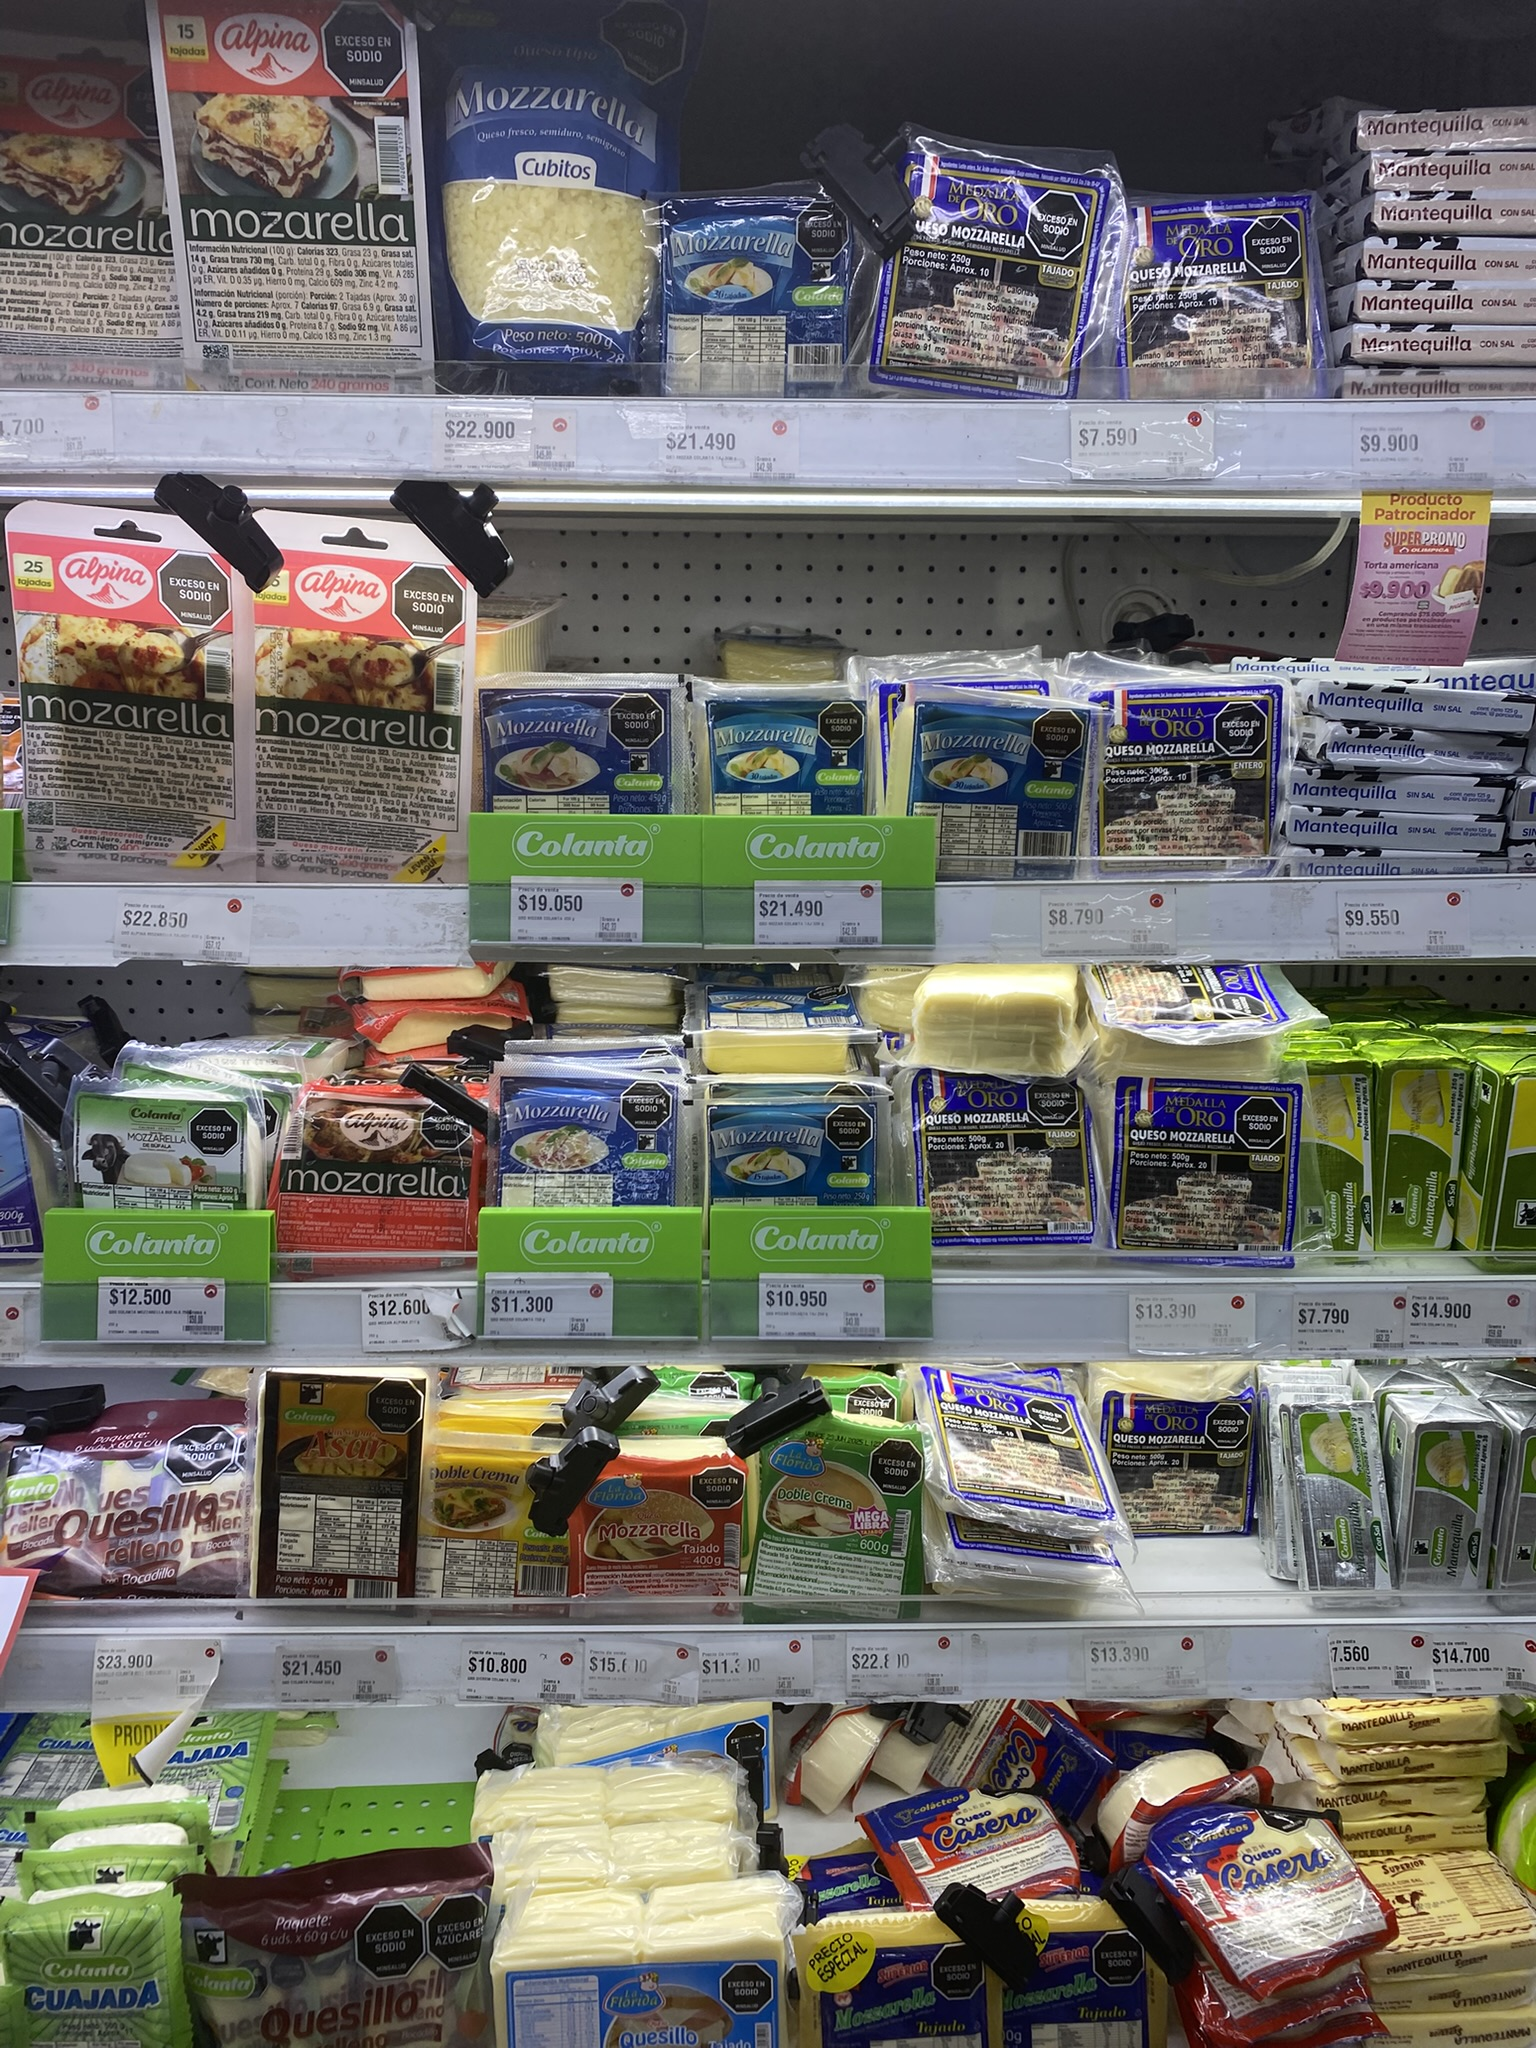Queso Mozzarella: (655, 194, 854, 384), (499, 1072, 692, 1203), (490, 697, 684, 819), (713, 1084, 895, 1200), (710, 693, 870, 824), (692, 985, 858, 1064)
